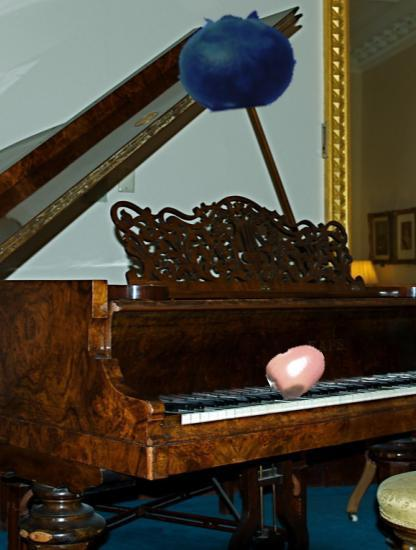Huckleberry: (176, 2, 296, 122)
Kaki: (267, 341, 328, 402)
